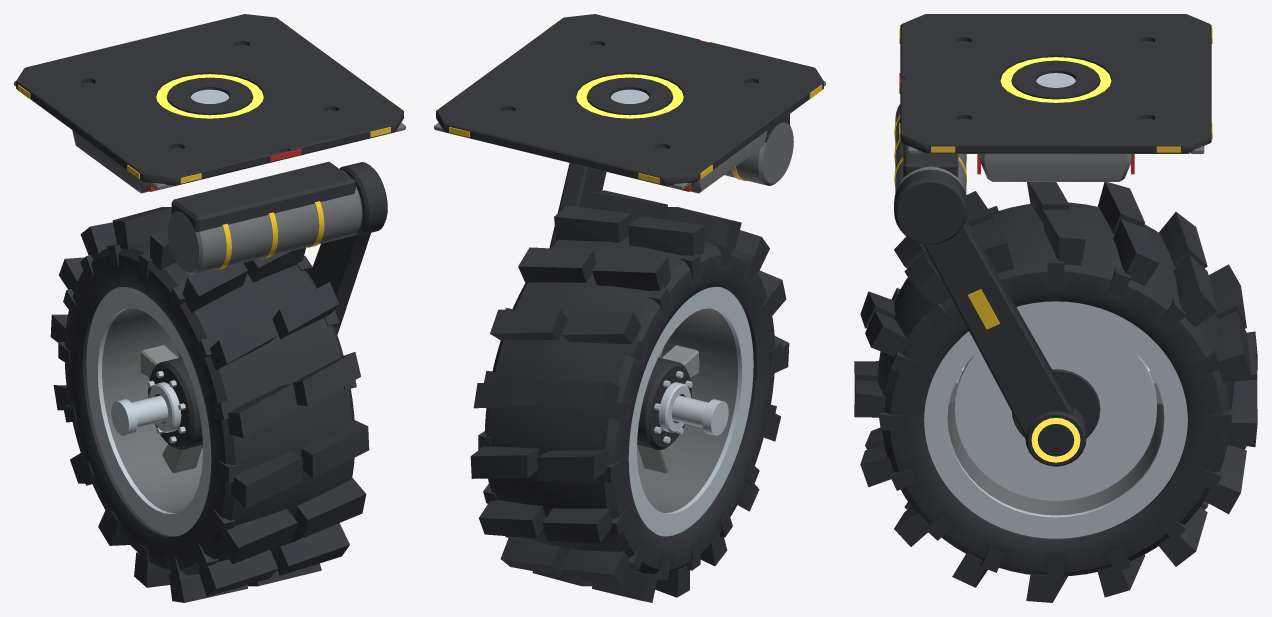
Rendered from R4M_WheelM_SwingArm_Offroad.glb.
3 renders of one model, left to right at view 1: azimuth 30°, elevation 25°; view 2: azimuth 150°, elevation 25°; view 3: azimuth 270°, elevation 25°, orthographic. The views are drawn at different scales.
Visible parts, largest first — view 1: R4M_WheelM_SwingArm_Offroad_Rotor, R4M_WheelM_SwingArm_Offroad_Mount, R4M_WheelM_SwingArm_Offroad_Arm; view 2: R4M_WheelM_SwingArm_Offroad_Rotor, R4M_WheelM_SwingArm_Offroad_Mount, R4M_WheelM_SwingArm_Offroad_Arm; view 3: R4M_WheelM_SwingArm_Offroad_Rotor, R4M_WheelM_SwingArm_Offroad_Mount, R4M_WheelM_SwingArm_Offroad_Arm.
Part boxes in pixels (bbox=[...]): R4M_WheelM_SwingArm_Offroad_Rotor: bbox=[50, 207, 369, 602]; R4M_WheelM_SwingArm_Offroad_Mount: bbox=[14, 14, 405, 274]; R4M_WheelM_SwingArm_Offroad_Arm: bbox=[111, 162, 387, 435]; R4M_WheelM_SwingArm_Offroad_Rotor: bbox=[470, 190, 789, 602]; R4M_WheelM_SwingArm_Offroad_Mount: bbox=[434, 14, 825, 193]; R4M_WheelM_SwingArm_Offroad_Arm: bbox=[549, 163, 728, 435]; R4M_WheelM_SwingArm_Offroad_Rotor: bbox=[854, 182, 1257, 602]; R4M_WheelM_SwingArm_Offroad_Mount: bbox=[894, 14, 1212, 194]; R4M_WheelM_SwingArm_Offroad_Arm: bbox=[894, 169, 1086, 466].
Bounding box in the file's own units: 0.5126 × 0.89 × 0.6599.
